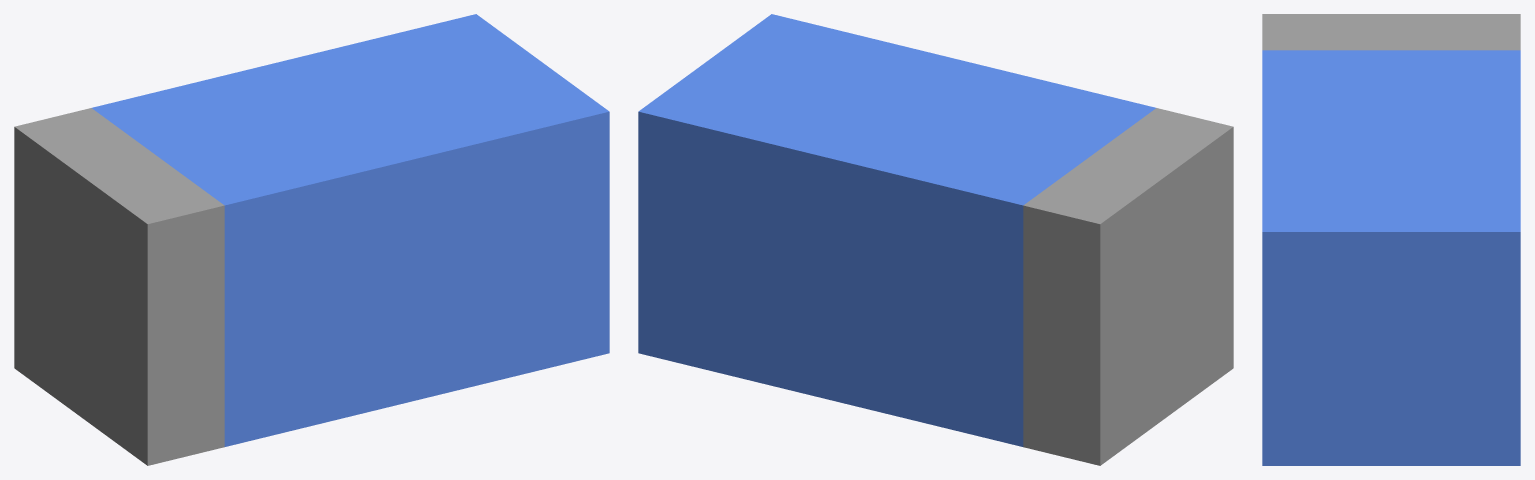
The model's file is JAMIE_ARM_BOTTOM.obj.
The picture shows the model from 3 angles, left to right: view 1: azimuth 30°, elevation 25°; view 2: azimuth 150°, elevation 25°; view 3: azimuth 270°, elevation 25°; orthographic projection. The views are drawn at different scales.
Size of the model in its own units: 0.6 by 0.3 by 0.3.
1 material, 1 textured.
